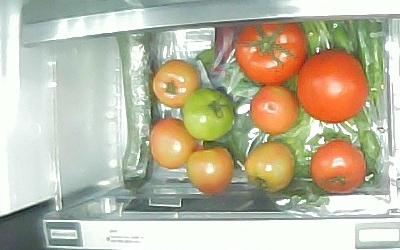tomato: (297, 49, 371, 123), (231, 20, 308, 88), (309, 140, 368, 194), (182, 89, 237, 143), (244, 140, 296, 194), (148, 115, 195, 169), (251, 86, 299, 136), (187, 145, 234, 196), (151, 61, 200, 107)
